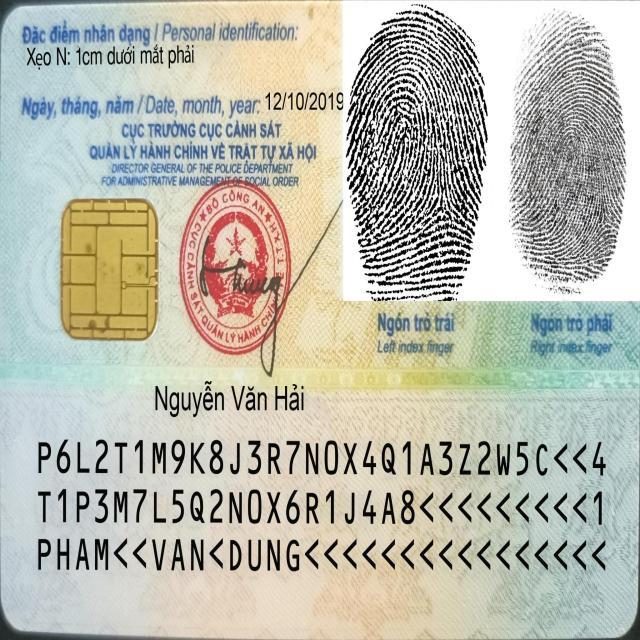features: (25, 38, 204, 72)
finger_print: (344, 0, 502, 363), (502, 0, 640, 360)
issue_date: (263, 87, 346, 115)
